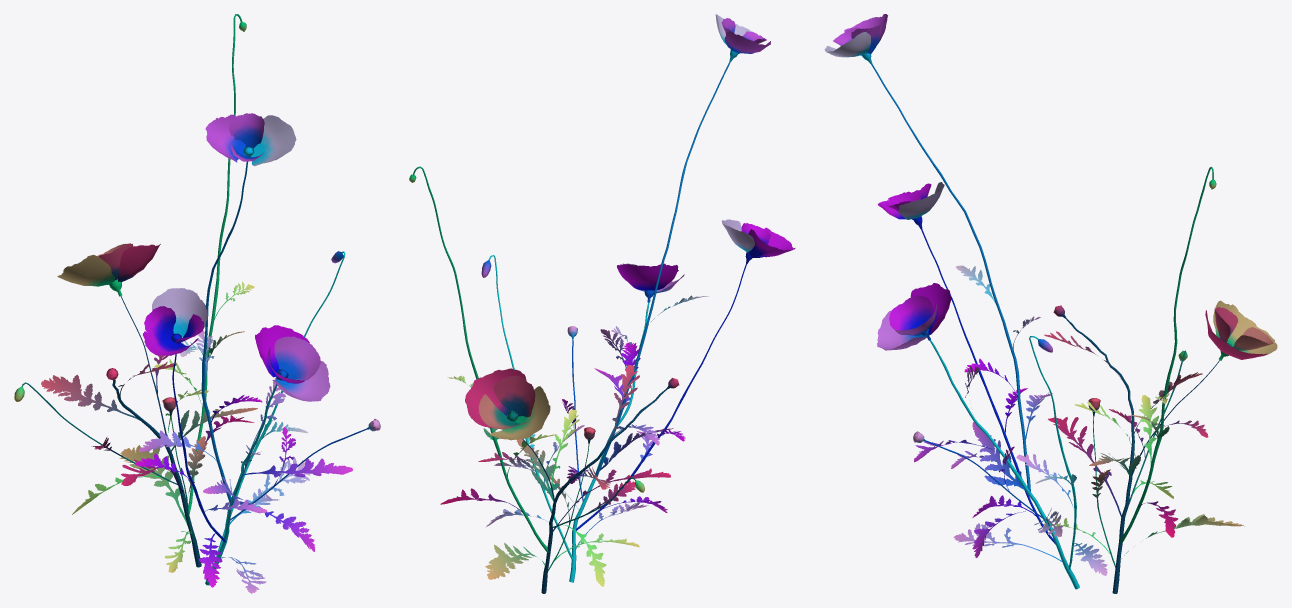
File: Field_Poppy_vmcobd0ja_Raw_vmcobd0ja_VarE_LOD0.fbx
The picture shows the model from 3 angles, left to right: view 1: azimuth 30°, elevation 25°; view 2: azimuth 150°, elevation 25°; view 3: azimuth 270°, elevation 25°; orthographic projection. The views are drawn at different scales.
Parts seen in each view (by area): view 1: _m3vf_VarE_High; view 2: _m3vf_VarE_High; view 3: _m3vf_VarE_High.
Boxes of the visible parts, bbox=[...] form: _m3vf_VarE_High: bbox=[14, 14, 380, 593]; _m3vf_VarE_High: bbox=[409, 14, 795, 593]; _m3vf_VarE_High: bbox=[824, 14, 1277, 593].
Size of the model in its own units: 37.53 by 74.69 by 57.48.
